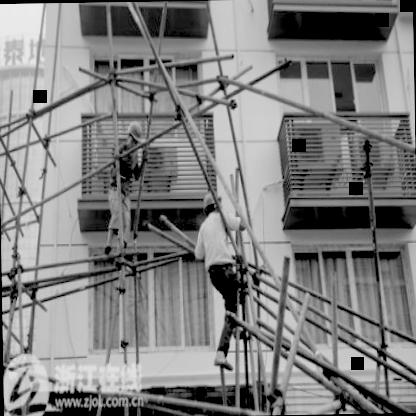helmet: (201, 185, 224, 221), (126, 117, 144, 151)
